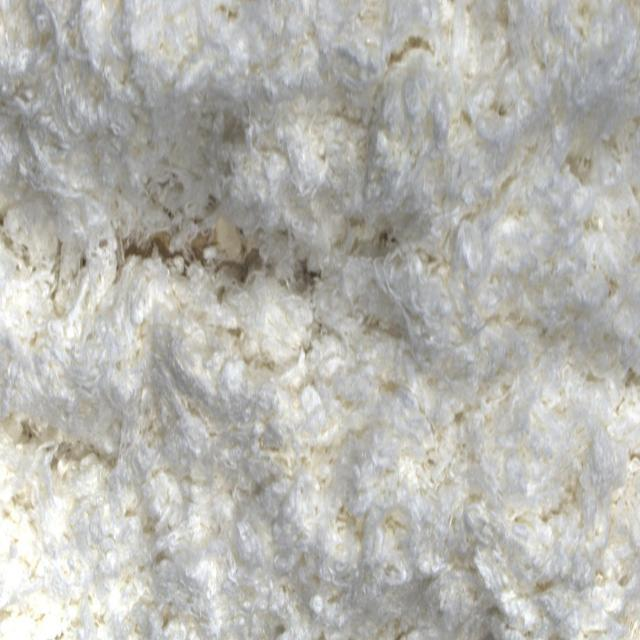dust: (113, 239, 276, 281)
